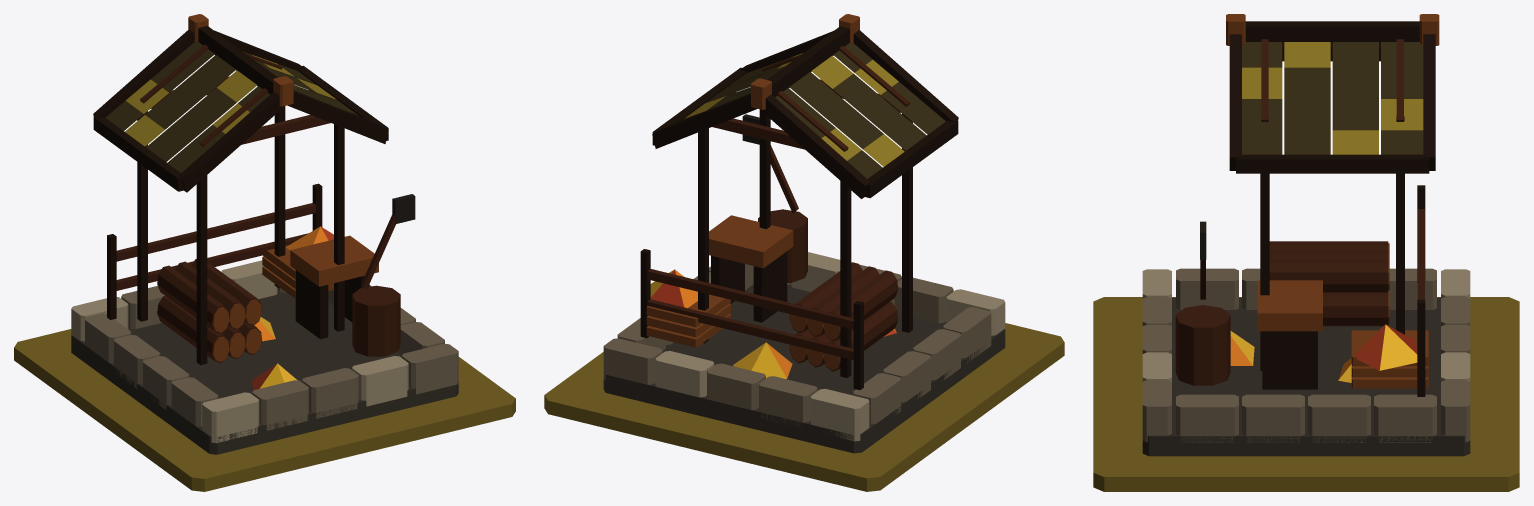
The model's file is lumber_t3.glb.
The picture shows the model from 3 angles, left to right: view 1: azimuth 30°, elevation 25°; view 2: azimuth 150°, elevation 25°; view 3: azimuth 270°, elevation 25°; orthographic projection. The views are drawn at different scales.
Visible parts, largest first — view 1: MMR | lumber | T03 Architecture.001, MMR | lumber | Tier 03 Ground.001, MMR | lumber | T03 Autumn Dressing.001; view 2: MMR | lumber | T03 Architecture.001, MMR | lumber | Tier 03 Ground.001, MMR | lumber | T03 Autumn Dressing.001; view 3: MMR | lumber | T03 Architecture.001, MMR | lumber | Tier 03 Ground.001, MMR | lumber | T03 Autumn Dressing.001.
Boxes of the visible parts, x1,y1,x2,y2 form: MMR | lumber | T03 Architecture.001: (71, 14, 458, 454); MMR | lumber | Tier 03 Ground.001: (14, 329, 515, 491); MMR | lumber | T03 Autumn Dressing.001: (252, 226, 333, 390); MMR | lumber | T03 Architecture.001: (603, 14, 1005, 453); MMR | lumber | Tier 03 Ground.001: (544, 323, 1064, 491); MMR | lumber | T03 Autumn Dressing.001: (650, 269, 896, 378); MMR | lumber | T03 Architecture.001: (1142, 14, 1470, 456); MMR | lumber | Tier 03 Ground.001: (1093, 297, 1519, 491); MMR | lumber | T03 Autumn Dressing.001: (1230, 324, 1417, 382).
Size of the model in its own units: 1.3 by 1.27 by 1.3.
1 material, 1 textured.
